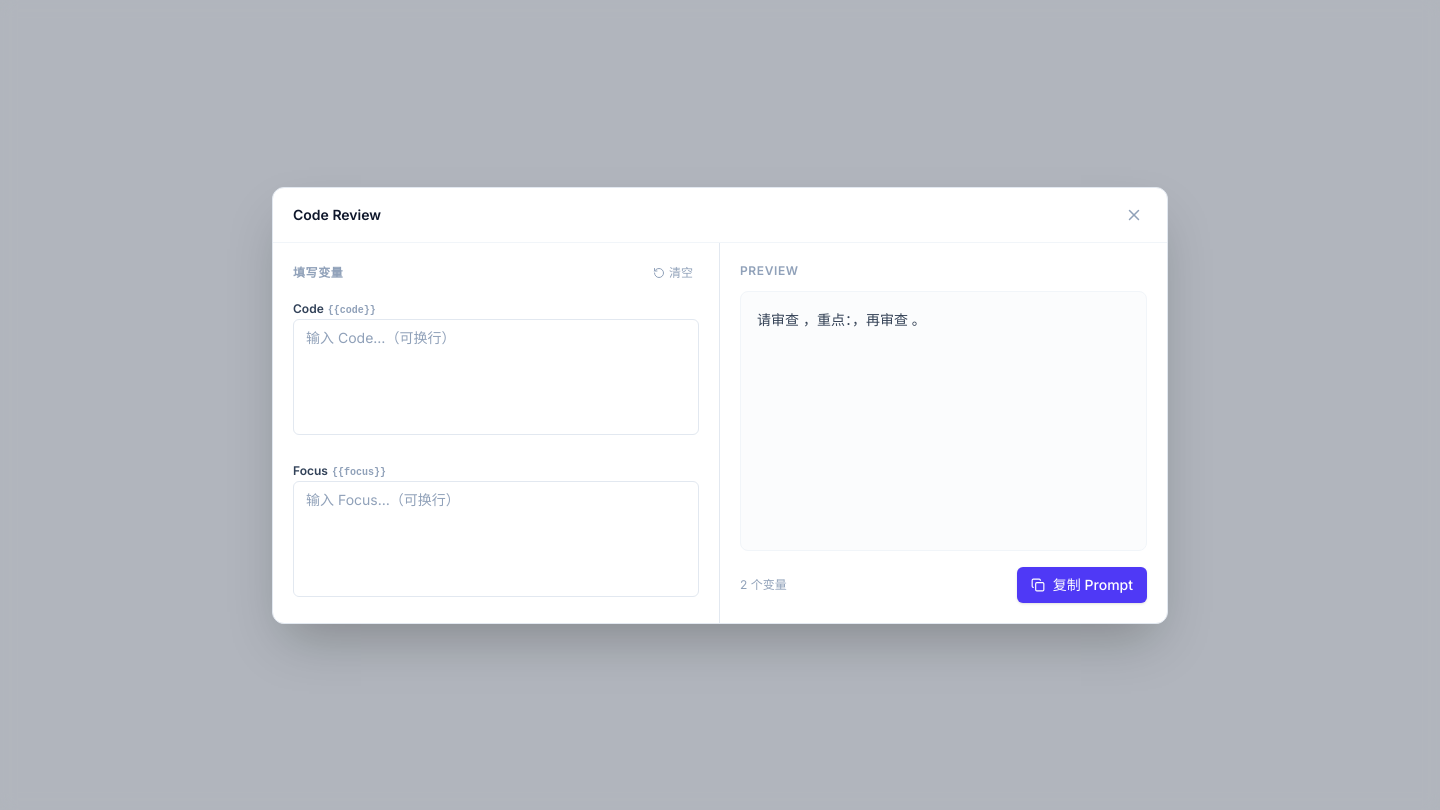
Scenario: UseModal › keeps unfilled variables replaced with empty string
In the text box labelled "Focus{{focus}}": (496, 538) [293,480,699,596], type "重点"
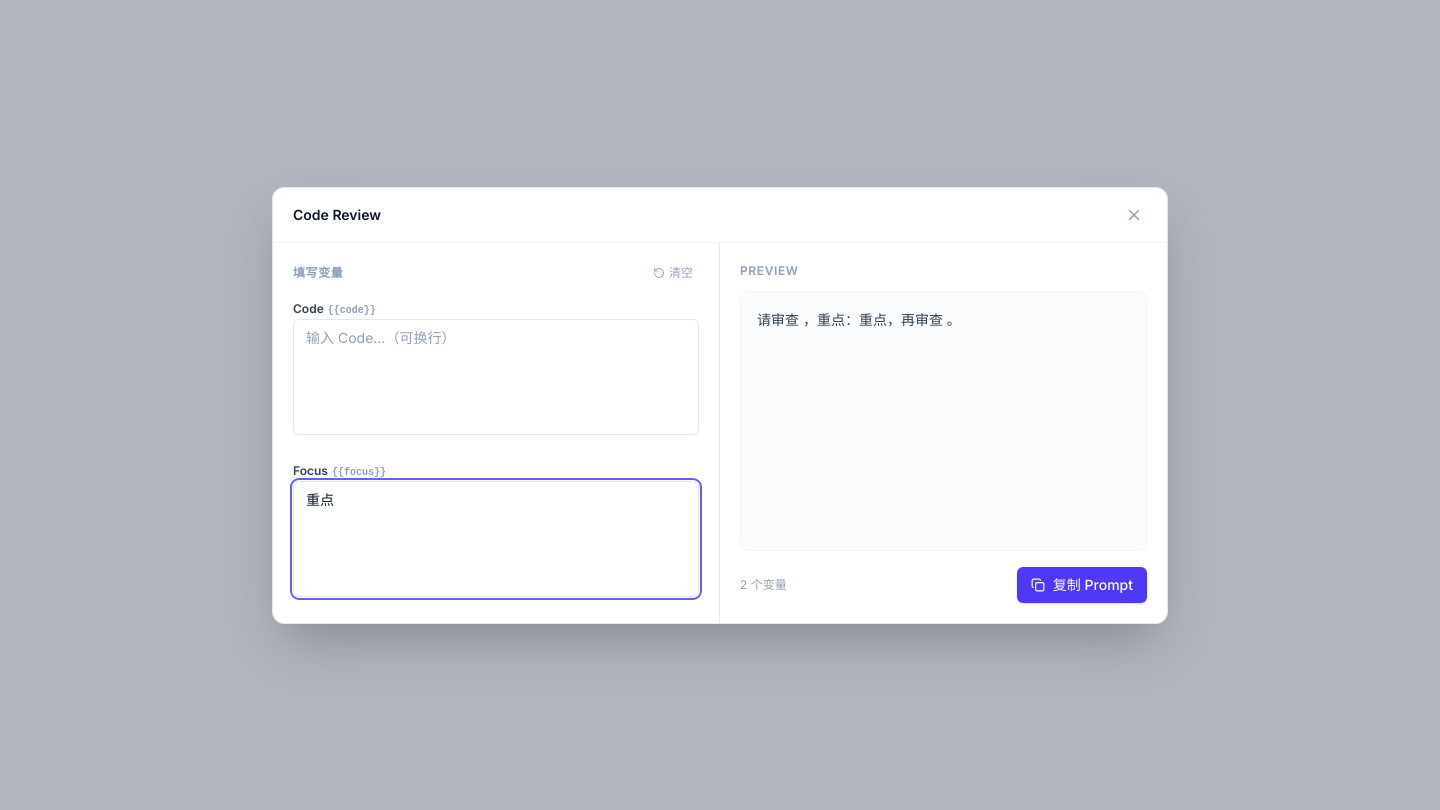
Now the text "请审查 ，重点：重点，再审查 。" is shown, box [757,310,961,328]
